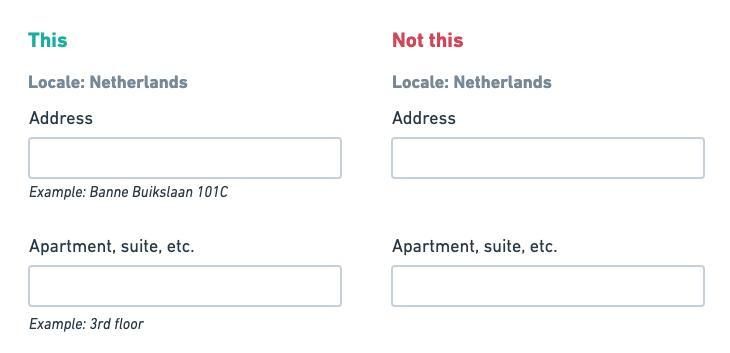input: (391, 137, 706, 181), (29, 138, 344, 181), (29, 266, 344, 309), (391, 266, 706, 308)
label: (388, 236, 561, 255), (29, 237, 198, 255), (393, 107, 458, 130), (28, 110, 96, 127)
